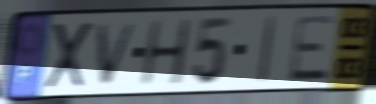5: (191, 14, 235, 88)
E: (285, 12, 339, 84)
H: (137, 17, 193, 88)
I: (255, 13, 279, 86)
V: (96, 20, 141, 88)
X: (43, 19, 96, 92)
